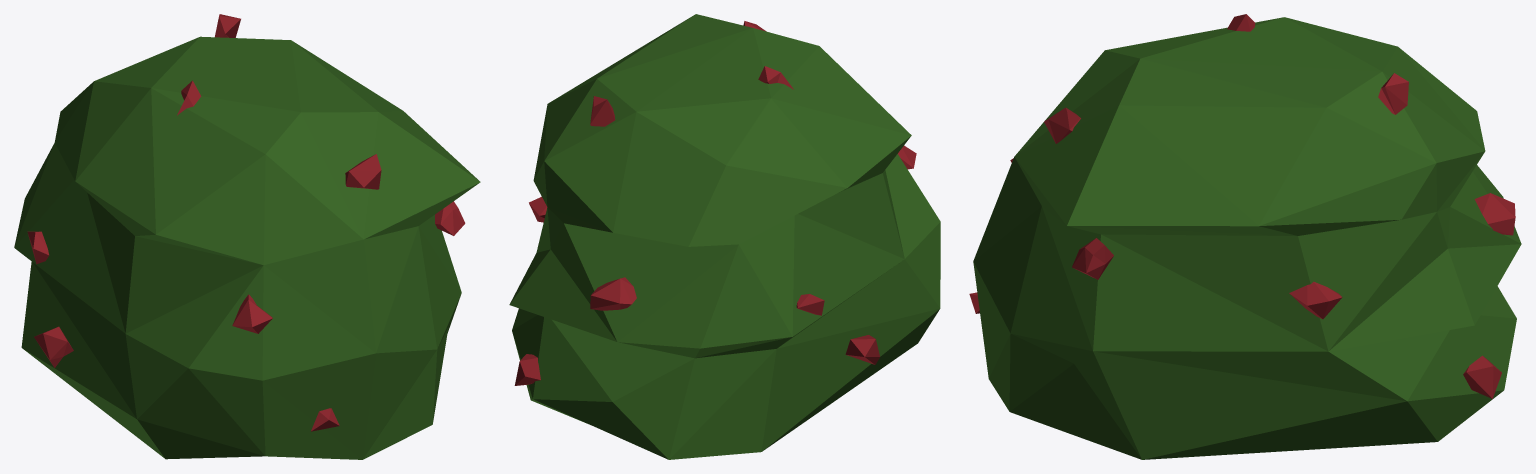
Rendered from bush_berry.glb.
The picture shows the model from 3 angles, left to right: view 1: azimuth 30°, elevation 25°; view 2: azimuth 150°, elevation 25°; view 3: azimuth 270°, elevation 25°; orthographic projection. The views are drawn at different scales.
Parts seen in each view (by area): view 1: bush_berry; view 2: bush_berry; view 3: bush_berry.
Part boxes in pixels (x1,y1,x2,y2): bush_berry: (14, 14, 480, 459); bush_berry: (509, 14, 940, 459); bush_berry: (969, 14, 1521, 459).
Bounding box in the file's own units: 1.37 × 1.27 × 1.72.
